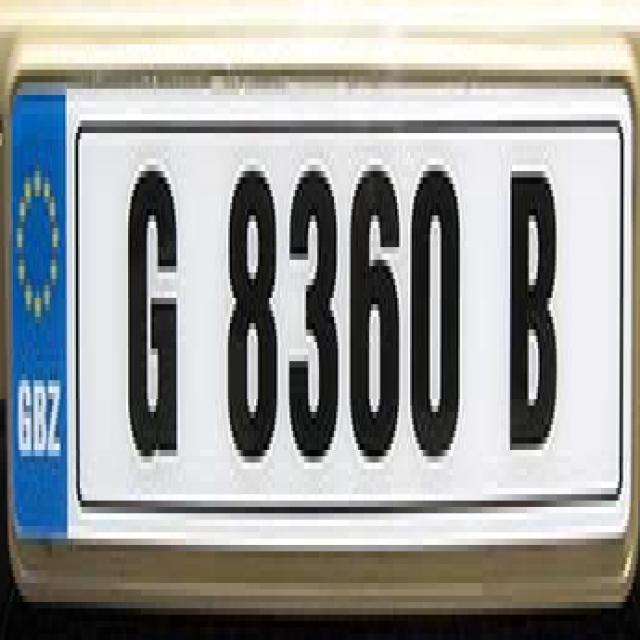Autre: (12, 87, 627, 528)
